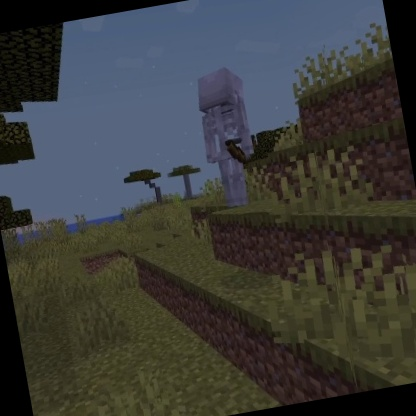skeleton: (187, 60, 271, 217)
